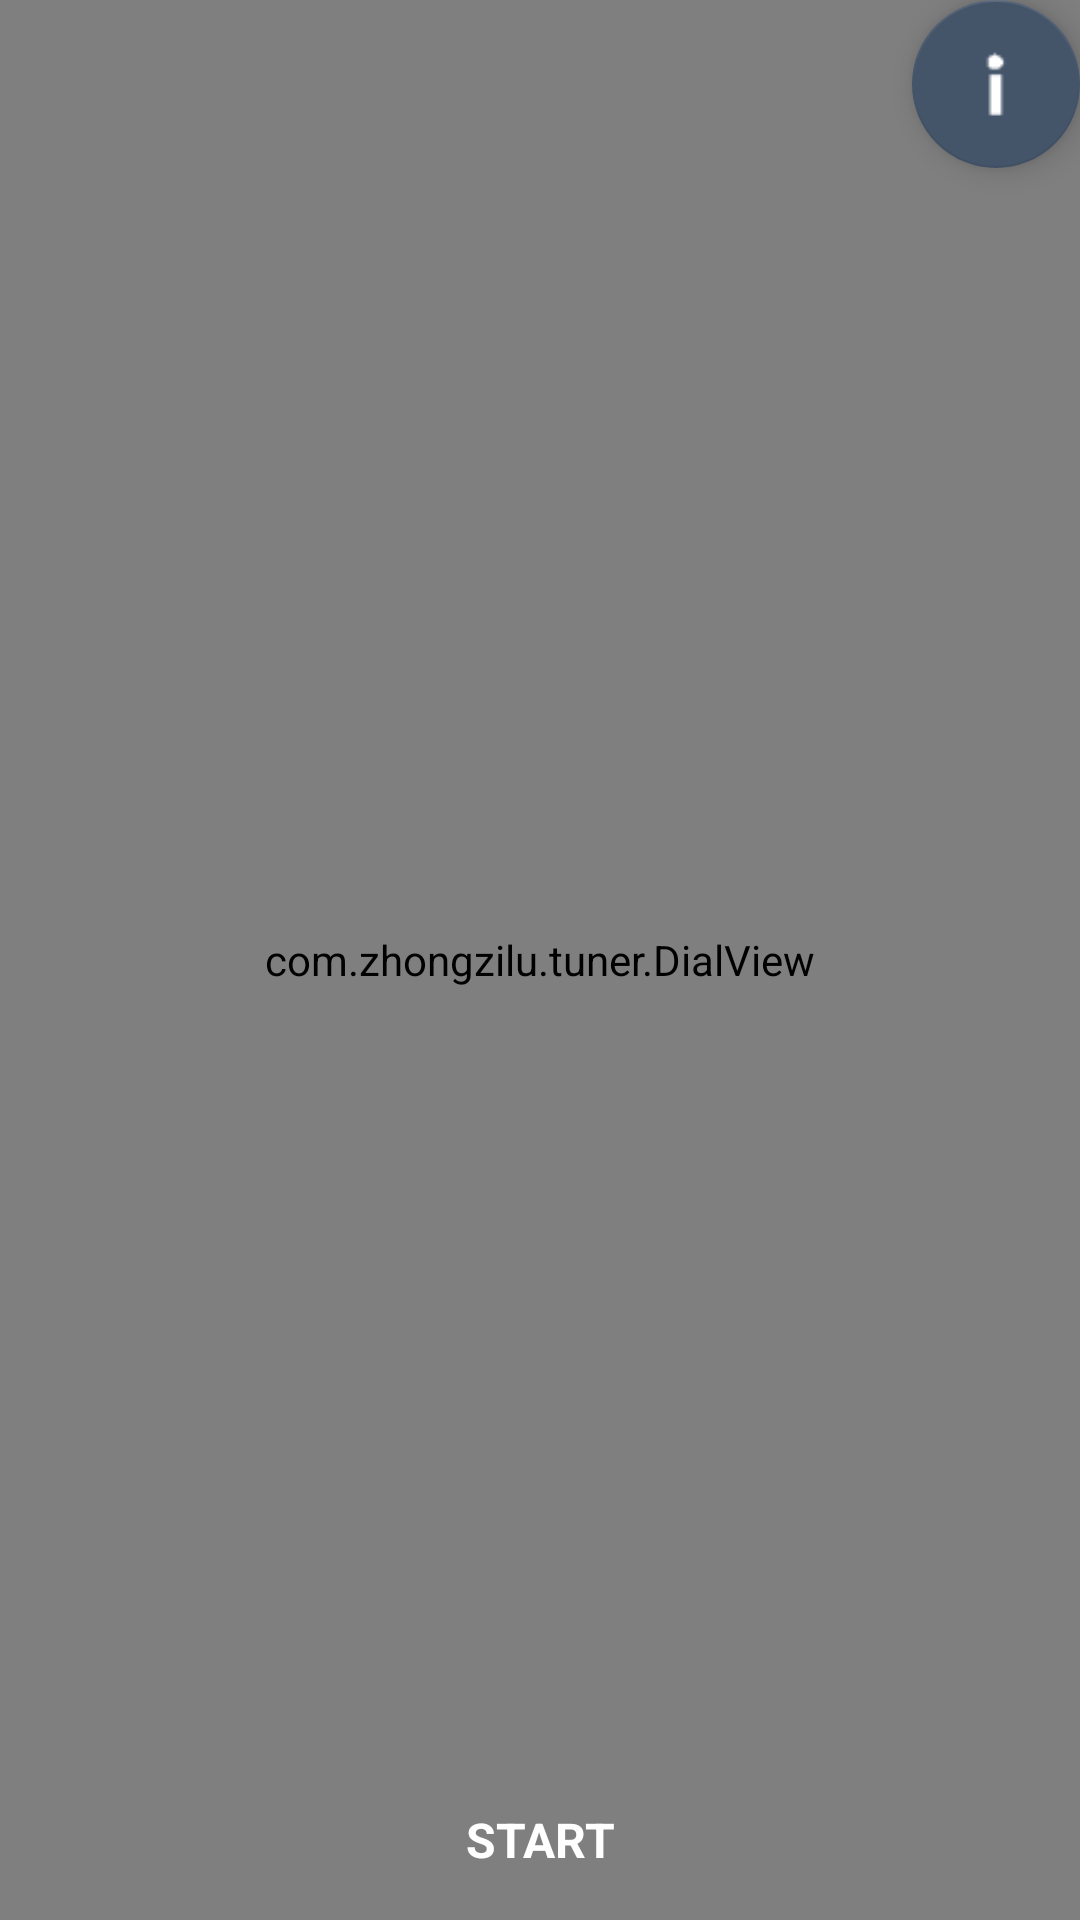

Screen size 1080×1920. Icon name, then its box in pixels as (left=x1, top=y1, right=x2, bottom=y2):
info: (left=912, top=0, right=1080, bottom=168)
